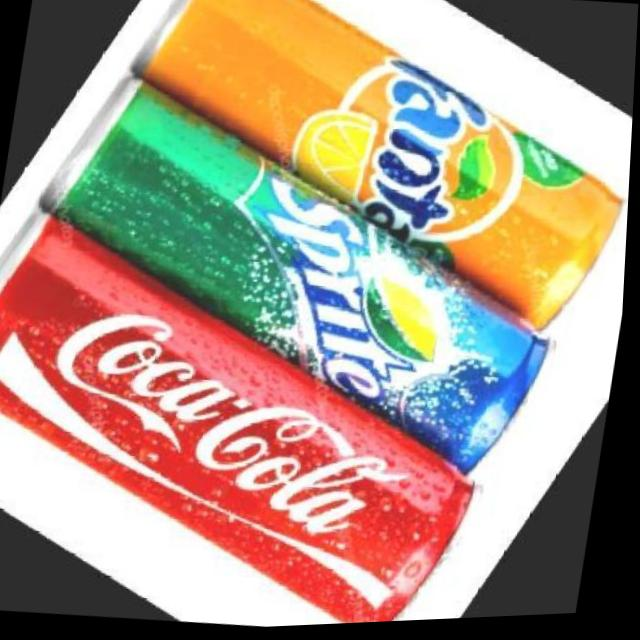metal: (55, 0, 611, 479), (0, 218, 471, 623)
